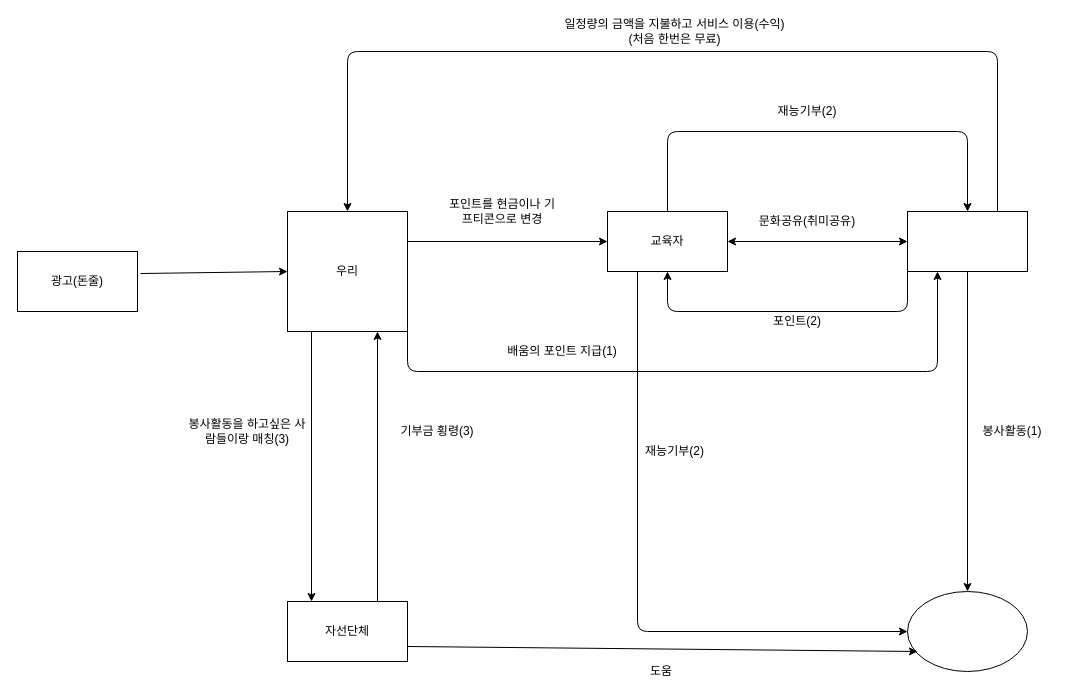
Image size: 1065x699. Some labels were removed from this diagram. Each missing label, with the centre of its shape:
"교육 받는 사람" goes at [967,241].
"봉사활동" goes at [967,631].
